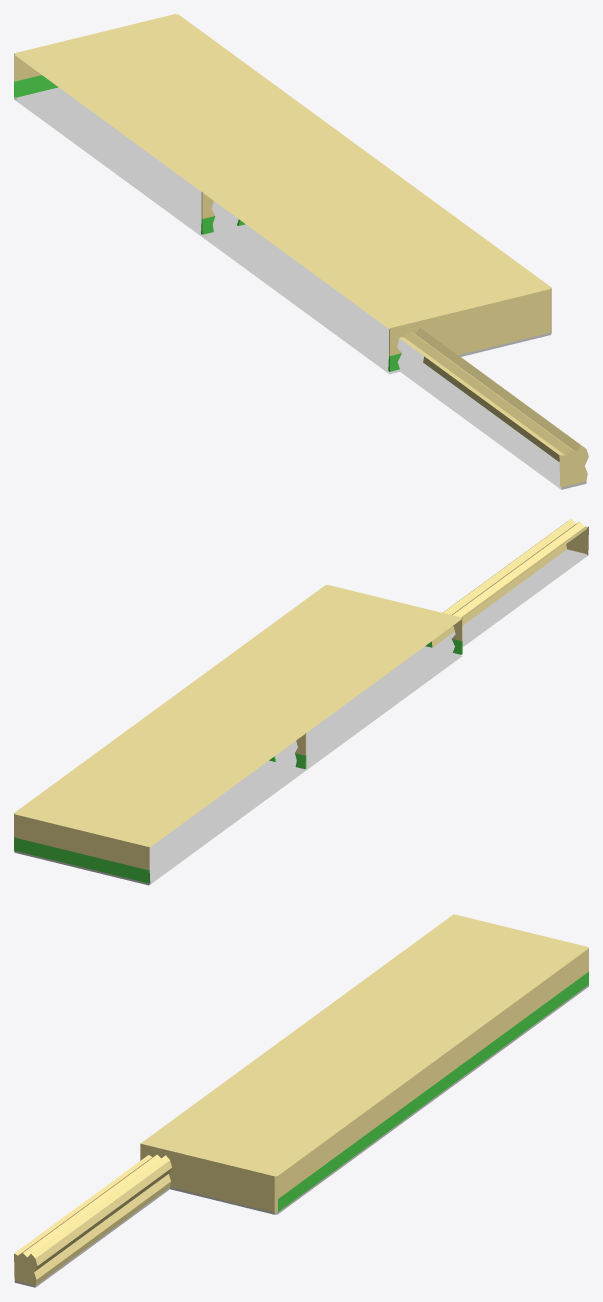
File: interior_school_room_south_04.fbx
3 renders of one model, top to bottom at view 1: azimuth 30°, elevation 25°; view 2: azimuth 150°, elevation 25°; view 3: azimuth 330°, elevation 25°, orthographic. The views are drawn at different scales.
Visible parts, largest first — view 1: Visible Mesh; view 2: Visible Mesh; view 3: Visible Mesh.
Boxes of the visible parts, x1,y1,x2,y2 form: Visible Mesh: [14, 14, 588, 489]; Visible Mesh: [14, 518, 588, 885]; Visible Mesh: [14, 914, 588, 1287].
Size of the model in its own units: 1410 by 380 by 8030.
